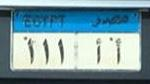1: (41, 38, 51, 65), (26, 39, 36, 65), (57, 38, 66, 66)
alif: (93, 37, 103, 65), (115, 36, 123, 65)
